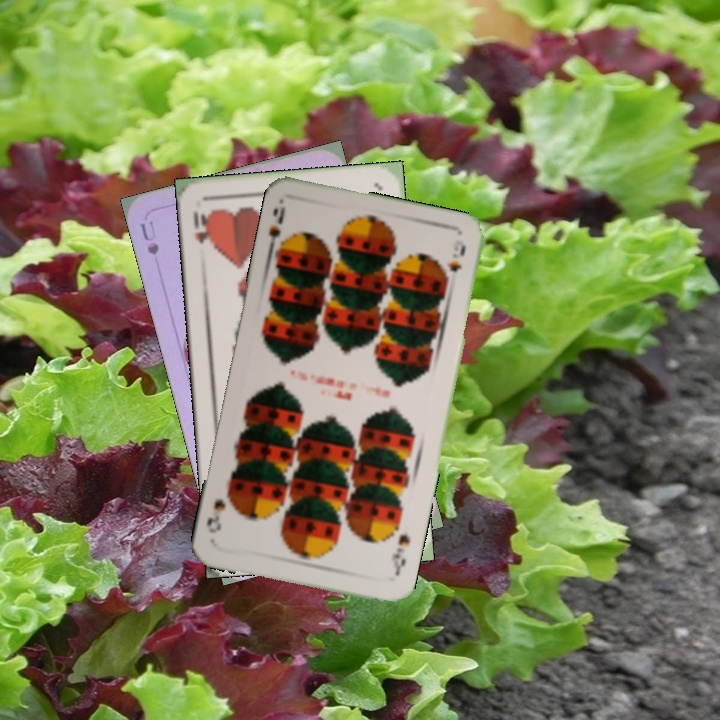HO: (189, 207, 214, 248)
S9: (263, 198, 291, 258), (387, 529, 413, 579)
SU: (136, 216, 162, 258)
